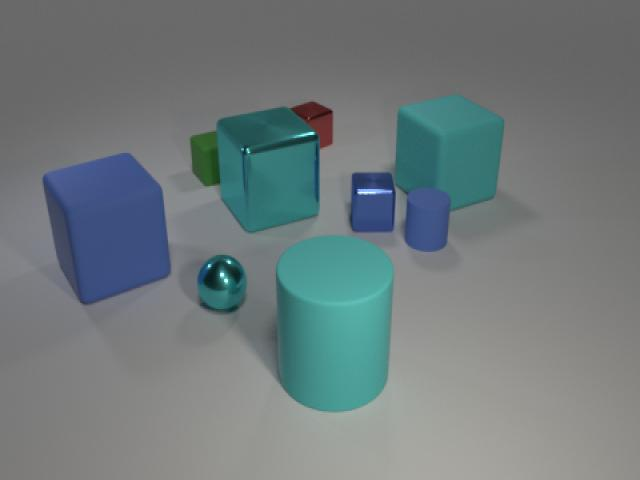cylinder: (271, 233, 398, 413), (403, 181, 452, 261)
round ball: (195, 250, 251, 316)
